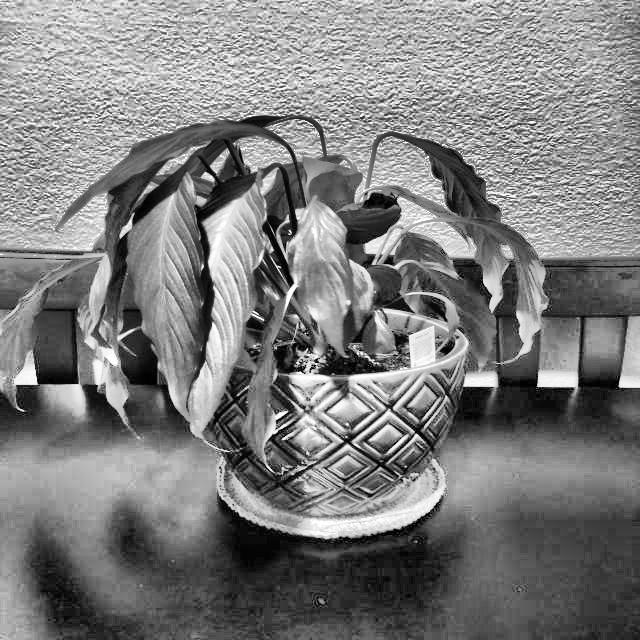plants: (15, 86, 559, 550), (211, 142, 261, 189), (356, 178, 412, 214)
